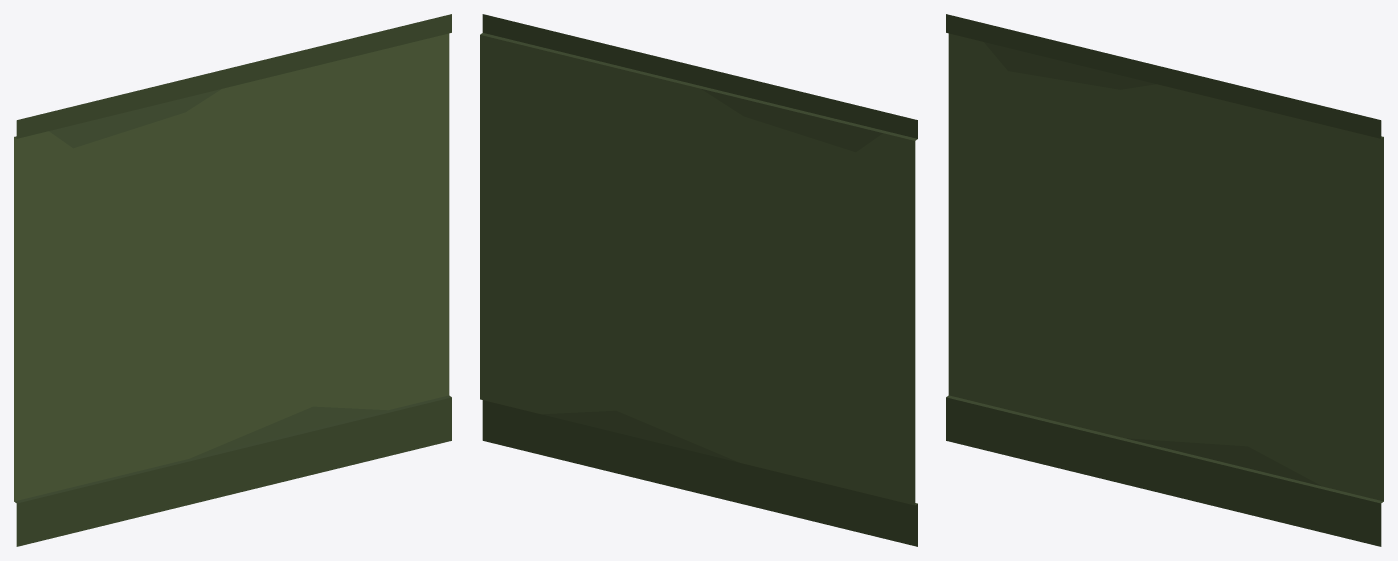
Rendered from AI_Env_Wall_Green_Blank.fbx.
3 renders of one model, left to right at view 1: azimuth 30°, elevation 25°; view 2: azimuth 150°, elevation 25°; view 3: azimuth 330°, elevation 25°, orthographic.
Parts seen in each view (by area): view 1: AI_Env_Wall_Green_Blank; view 2: AI_Env_Wall_Green_Blank; view 3: AI_Env_Wall_Green_Blank.
Boxes of the visible parts, x1,y1,x2,y2 form: AI_Env_Wall_Green_Blank: [14, 14, 451, 546]; AI_Env_Wall_Green_Blank: [480, 14, 917, 546]; AI_Env_Wall_Green_Blank: [946, 14, 1383, 546].
Size of the model in its own units: 5 by 4.69 by 0.0549.
